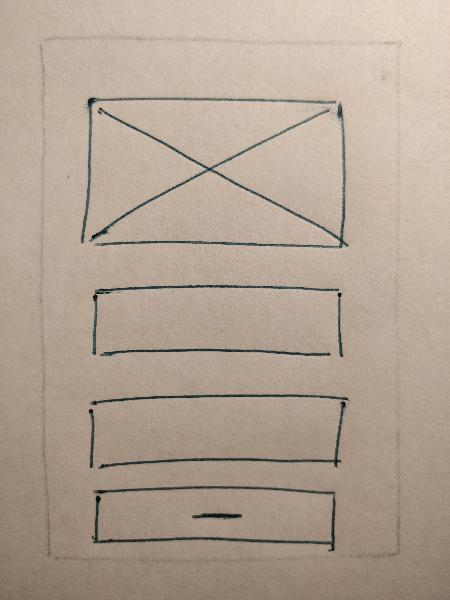button: (85, 484, 341, 554)
image: (76, 87, 356, 257)
text_input: (82, 281, 352, 370), (79, 391, 352, 477)
